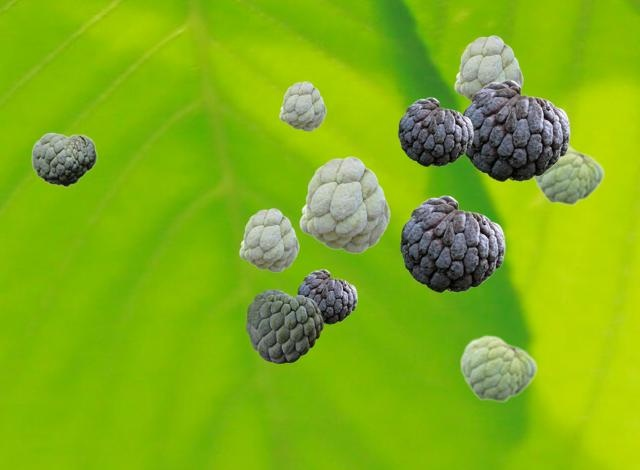atis: (462, 79, 569, 180), (400, 195, 504, 291), (299, 156, 389, 252), (246, 289, 322, 362), (459, 334, 536, 402), (398, 97, 472, 165), (454, 35, 522, 101), (533, 145, 603, 205), (239, 208, 298, 271), (31, 132, 96, 186), (297, 269, 356, 323), (279, 81, 325, 130)
